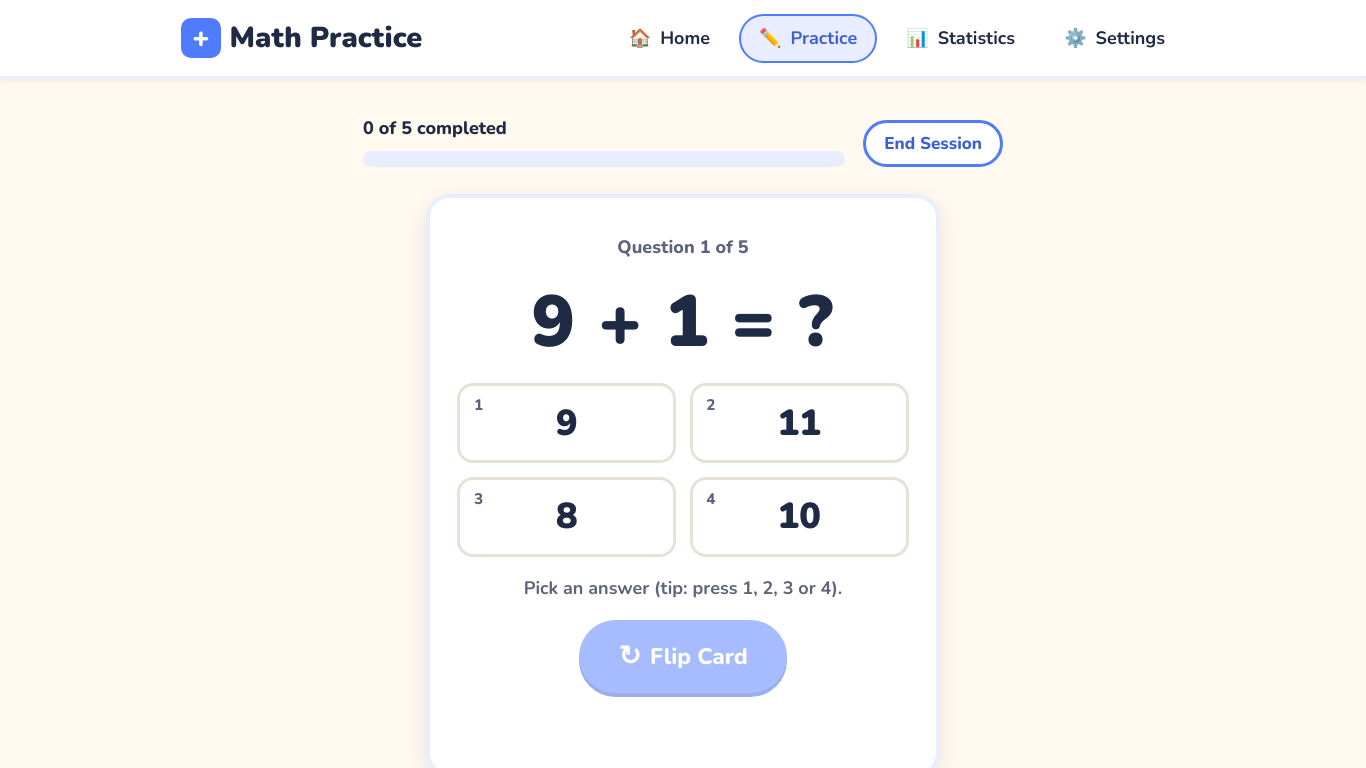
Test case: session safety › does not ask when no question has been answered yet
Step 1. Click the link "🏠 Home" → (669, 38), box [629,26,710,50]
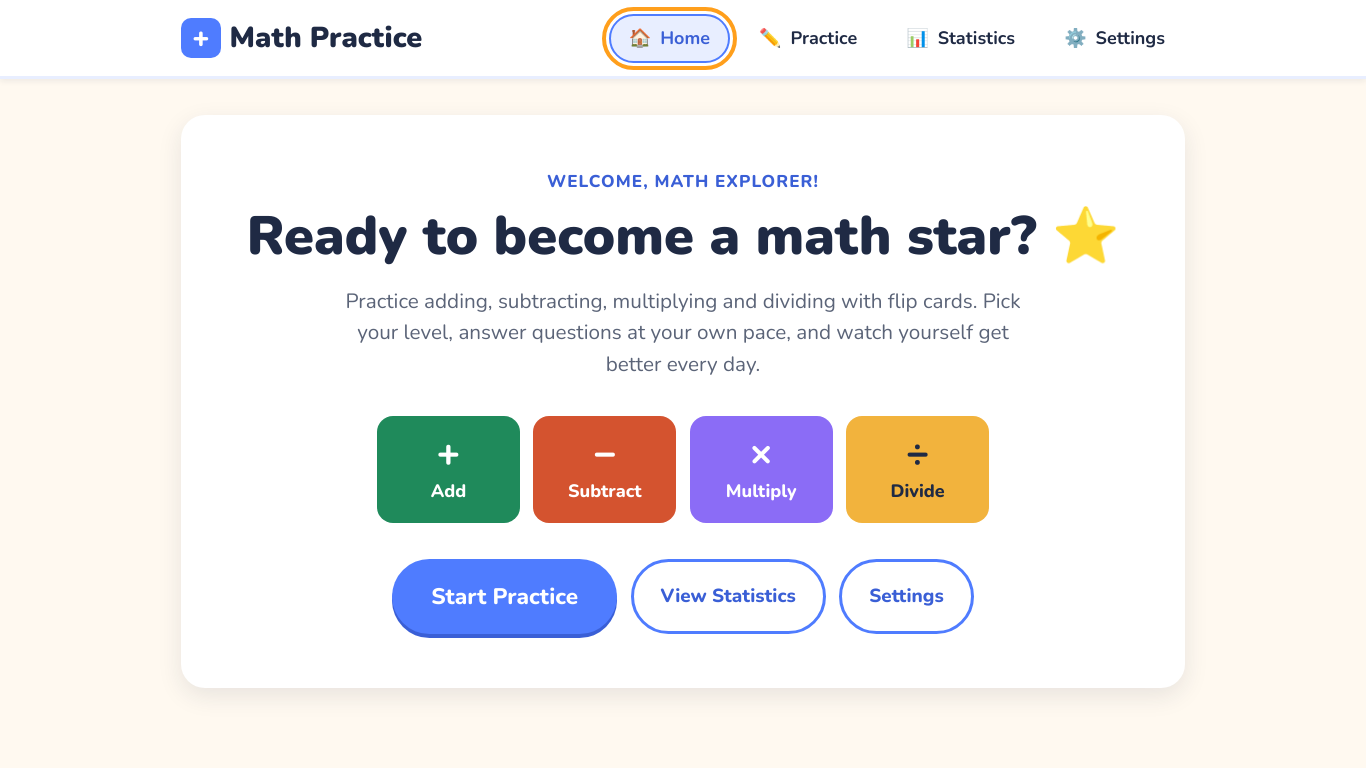
Expected: the heading "Ready to become a math star? ⭐" is shown, [217,204,1149,268]
